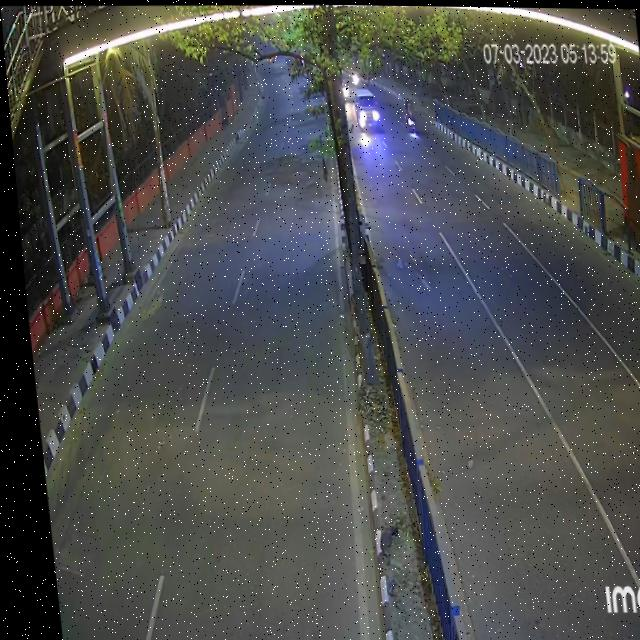rikshaw: (401, 91, 417, 142)
